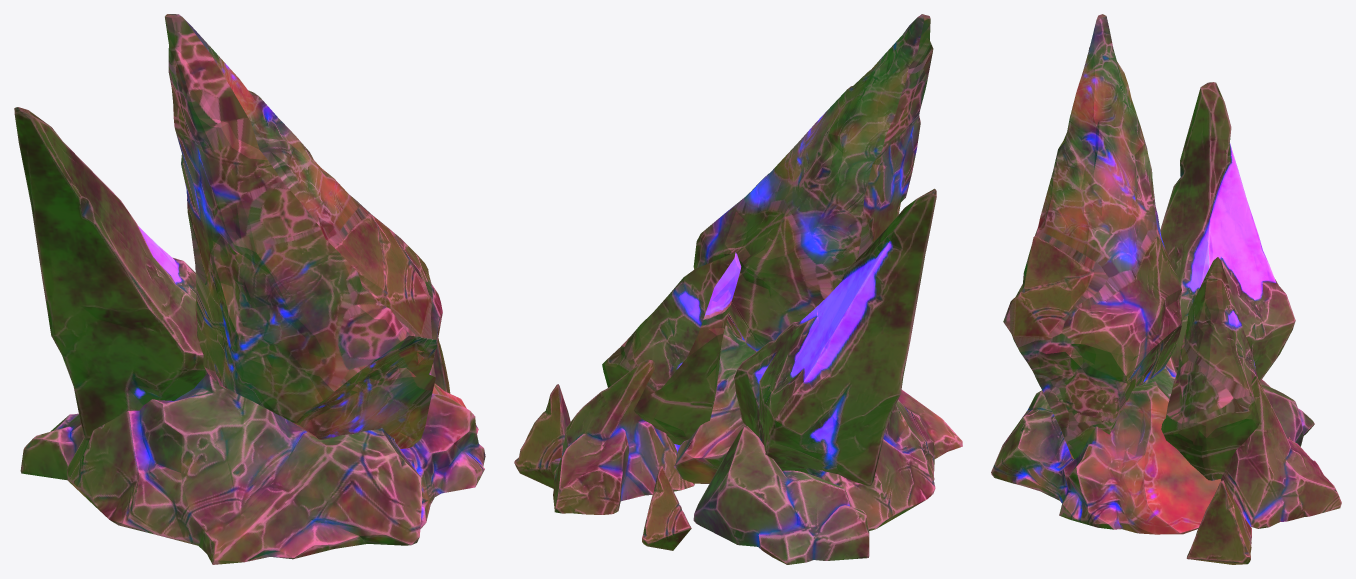
Rendered from MolochMagicB.fbx.
3 views of the same model, side by side, from view 1: azimuth 30°, elevation 25°; view 2: azimuth 150°, elevation 25°; view 3: azimuth 270°, elevation 25° (orthographic). The views are drawn at different scales.
Visible parts, largest first — view 1: Dn_HL_TremorCrystal_B.mo; view 2: Dn_HL_TremorCrystal_B.mo; view 3: Dn_HL_TremorCrystal_B.mo.
Part boxes in pixels (left/top/right/bottom): Dn_HL_TremorCrystal_B.mo: left=14, top=14, right=485, bottom=564; Dn_HL_TremorCrystal_B.mo: left=514, top=14, right=962, bottom=564; Dn_HL_TremorCrystal_B.mo: left=991, top=14, right=1341, bottom=564.
Bounding box in the file's own units: 572 × 667 × 498.
